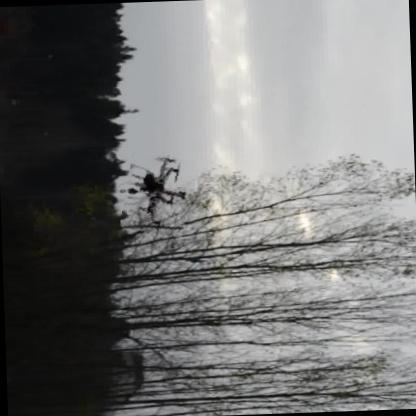drone: (121, 152, 194, 238)
